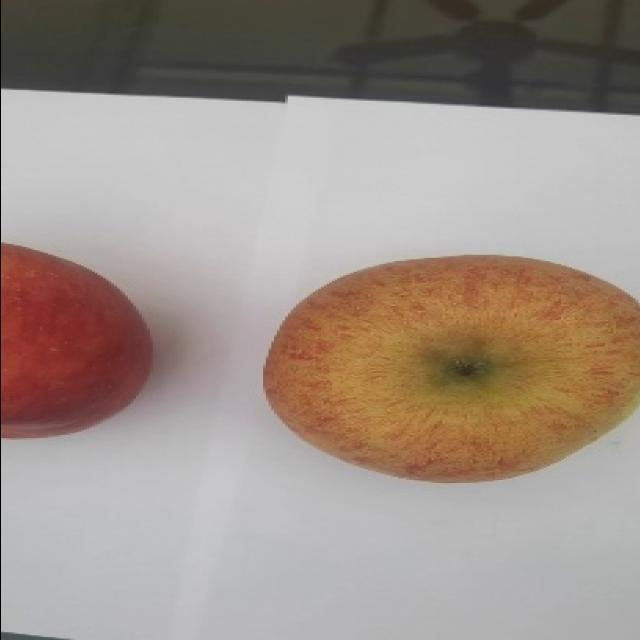Apple: (261, 252, 639, 484), (0, 241, 153, 439)
